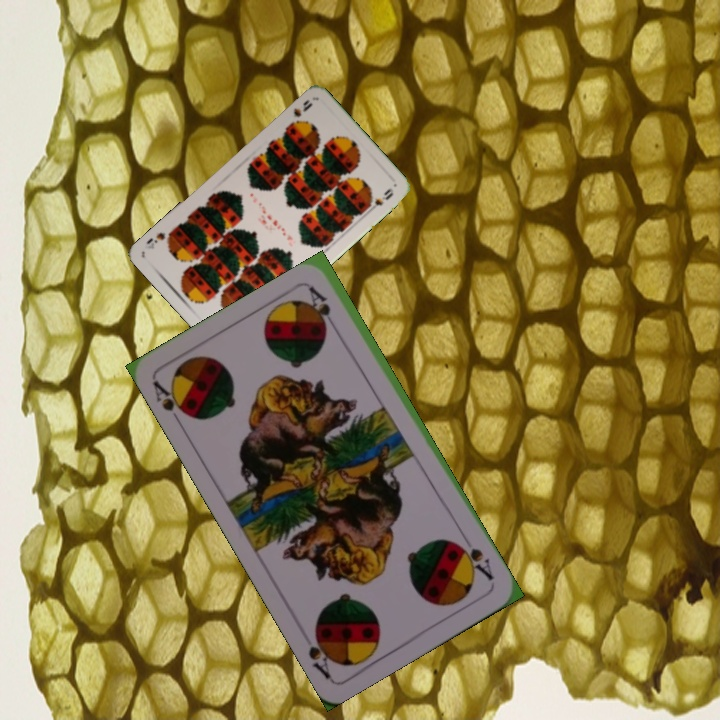S9: (284, 95, 315, 129)
SA: (148, 376, 195, 429), (452, 537, 496, 583)
